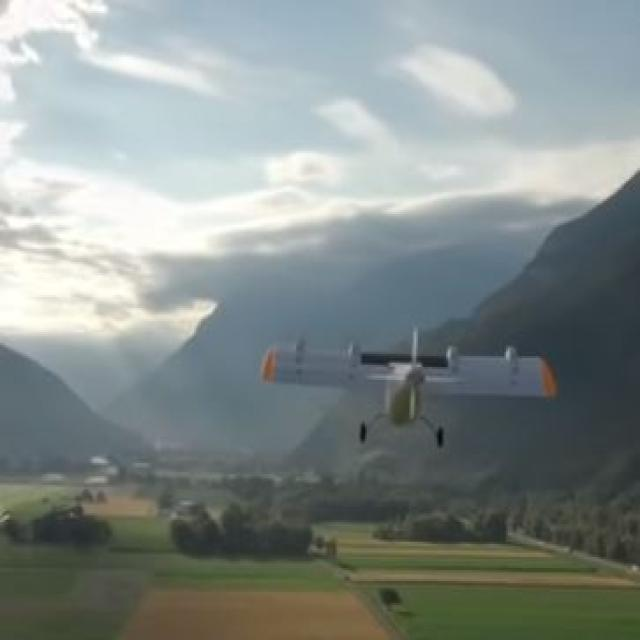iha: (258, 320, 559, 453)
